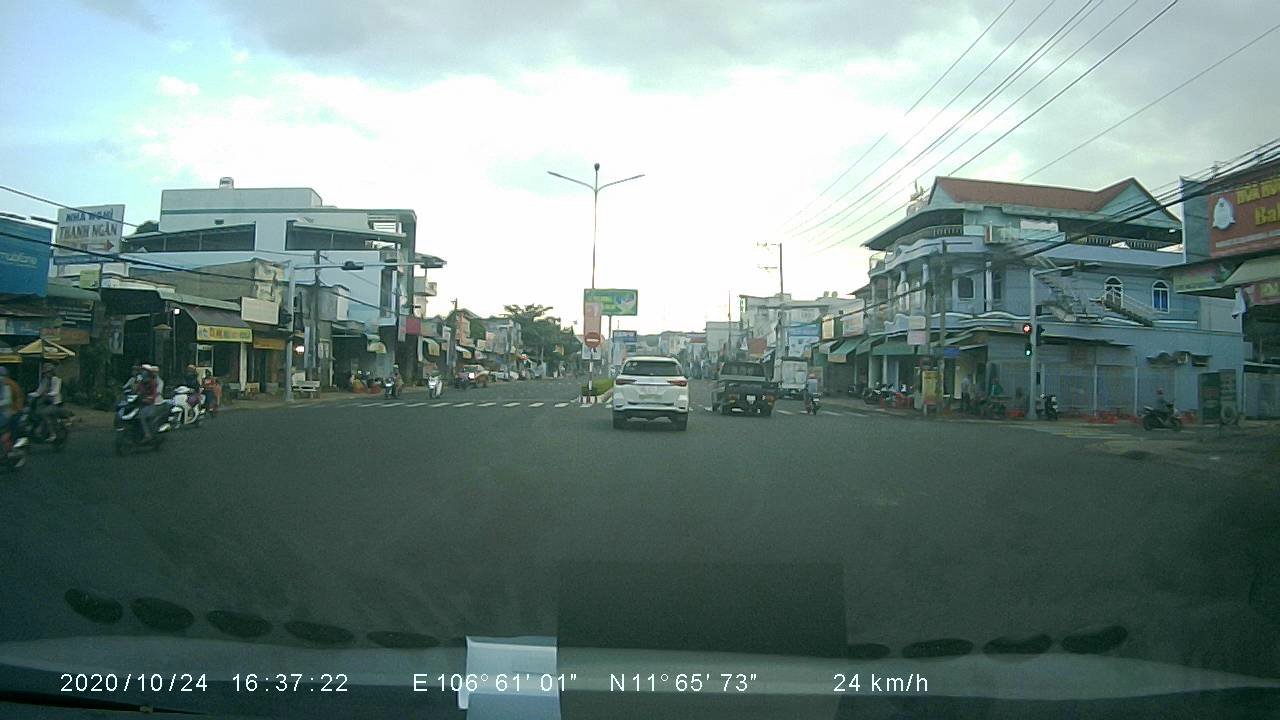Cam di nguoc chieu: (579, 329, 602, 349)
